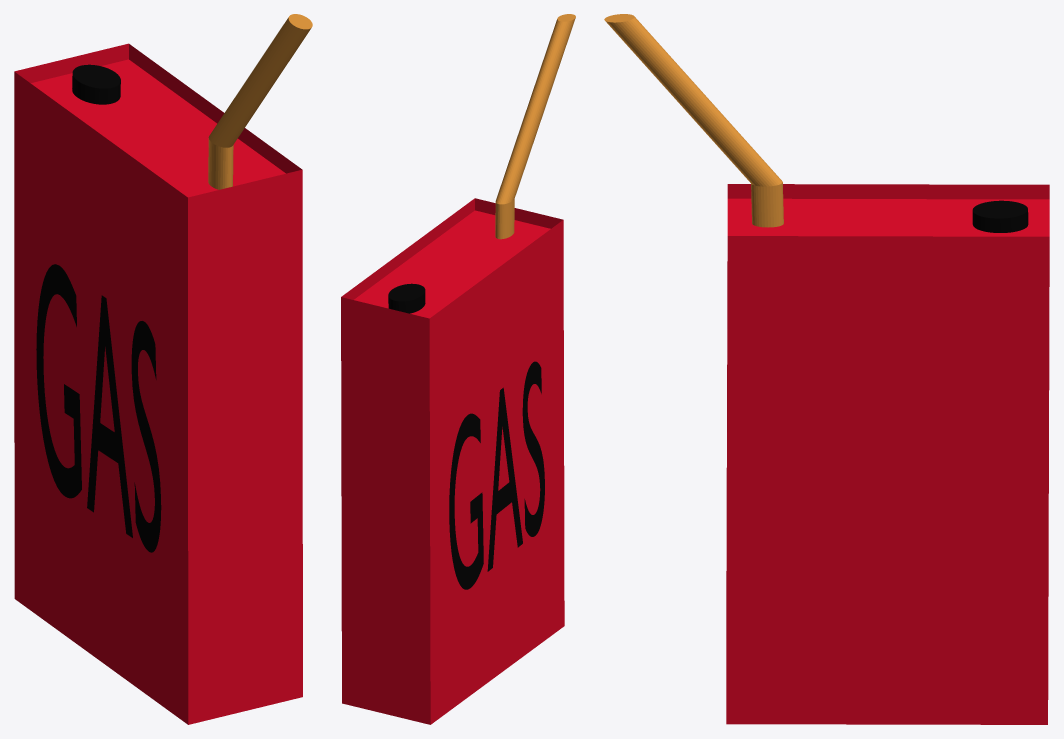
Rendered from gascan.fbx.
3 views of the same model, side by side, from view 1: azimuth 30°, elevation 25°; view 2: azimuth 150°, elevation 25°; view 3: azimuth 270°, elevation 25° (orthographic). The views are drawn at different scales.
Visible parts, largest first — view 1: Cube, Gas, Cylinder.001, Cylinder; view 2: Cube, Gas, Cylinder.001, Cylinder; view 3: Cube, Cylinder.001, Cylinder.
Boxes of the visible parts, x1=… form: Cube: x1=14, y1=43, x2=302, y2=724; Gas: x1=36, y1=264, x2=161, y2=552; Cylinder.001: x1=208, y1=14, x2=312, y2=189; Cylinder: x1=72, y1=64, x2=120, y2=104; Cube: x1=341, y1=198, x2=564, y2=724; Gas: x1=449, y1=361, x2=544, y2=589; Cylinder.001: x1=495, y1=14, x2=575, y2=239; Cylinder: x1=388, y1=283, x2=425, y2=313; Cube: x1=726, y1=184, x2=1049, y2=724; Cylinder.001: x1=604, y1=14, x2=783, y2=227; Cylinder: x1=972, y1=200, x2=1028, y2=232.
Bounding box in the file's own units: 63.51 × 382 × 226.
